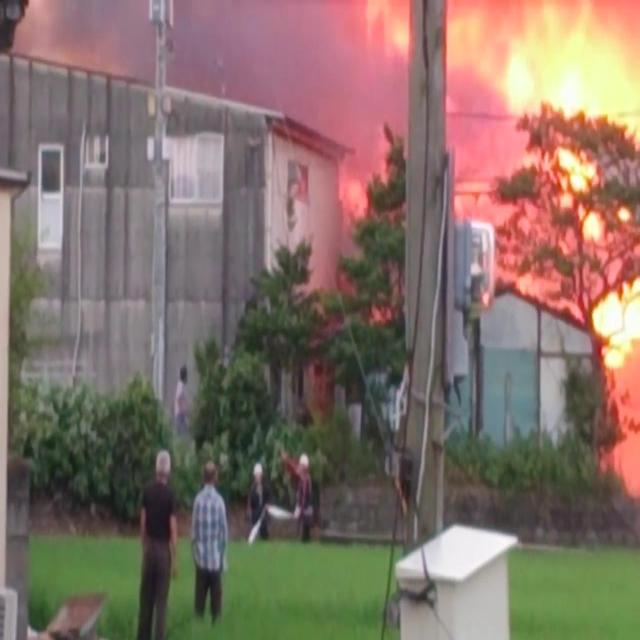Fire: (447, 10, 638, 240), (593, 272, 639, 370)
